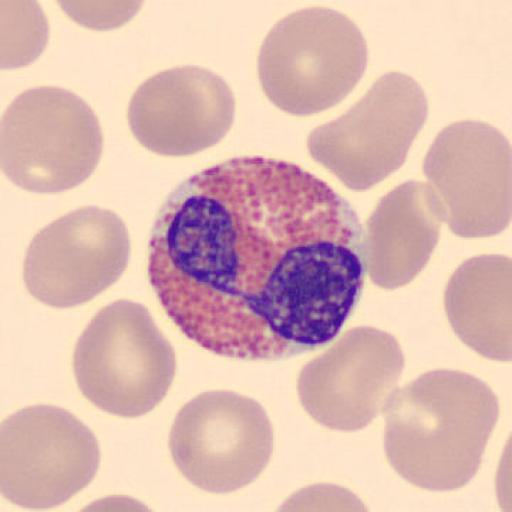RBC: (304, 68, 430, 192), (383, 367, 499, 495), (70, 296, 178, 421), (255, 3, 371, 118), (295, 322, 408, 434), (19, 202, 133, 311), (165, 386, 276, 497), (2, 83, 106, 196), (421, 116, 512, 242), (2, 402, 103, 512), (124, 62, 237, 159), (359, 178, 442, 292), (441, 252, 512, 363), (2, 0, 52, 72), (269, 479, 376, 512), (52, 0, 149, 34), (50, 492, 176, 512), (492, 423, 512, 512), (493, 437, 512, 512)
WBC: (144, 156, 368, 362)
